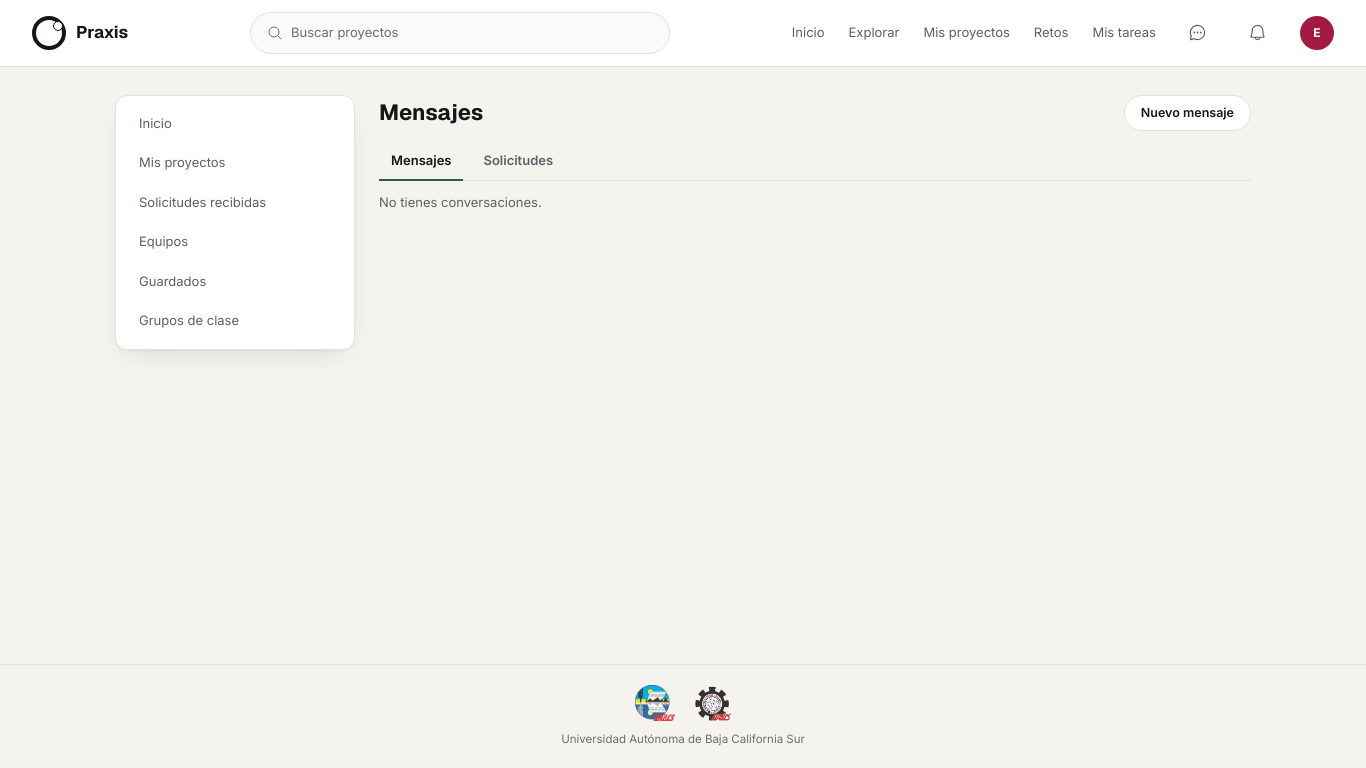
Test: Mensajes — tabs › clicking the Solicitudes tab navigates there
Expected: the text "No tienes conversaciones." is shown, [379,194,542,210]
Click the button "Solicitudes" at (518, 162), box [472,143,565,181]
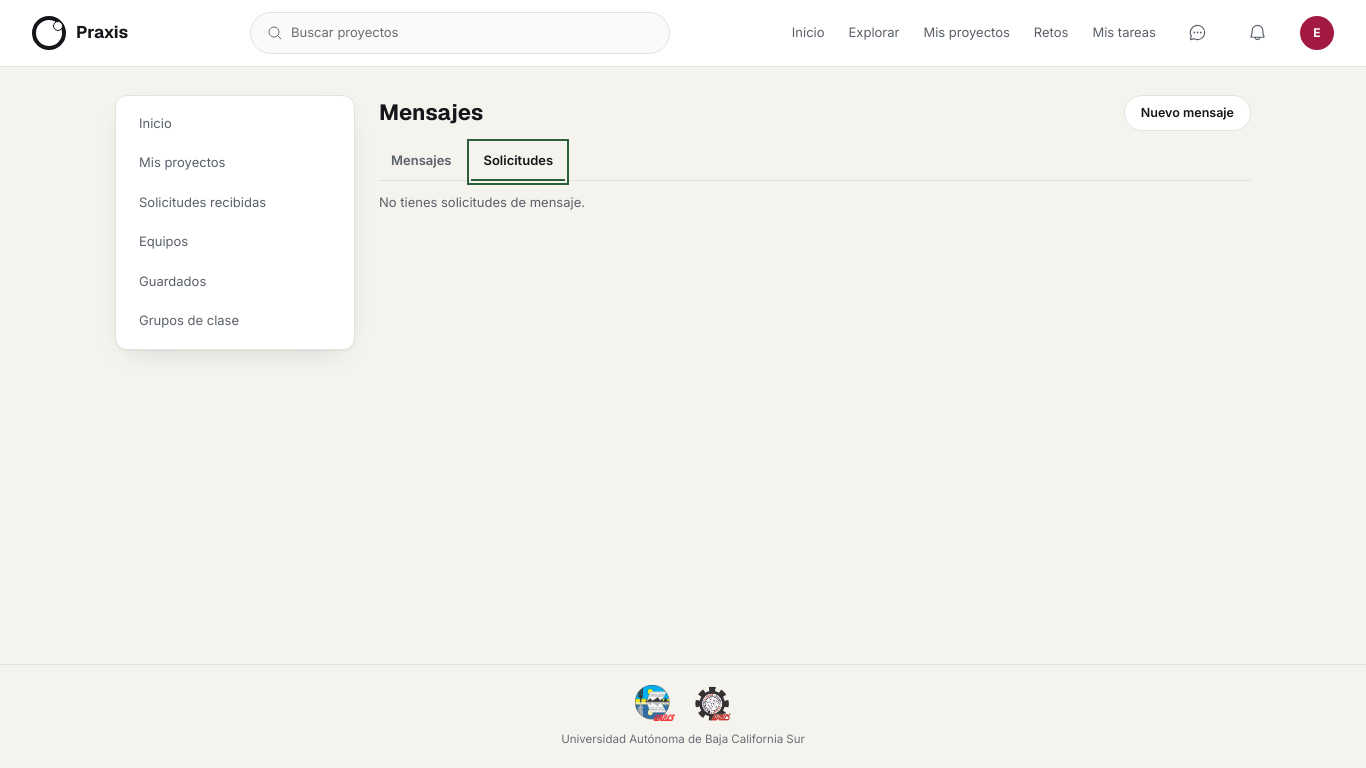
Result: the text "No tienes solicitudes de mensaje." is shown at [379,194,585,210]
